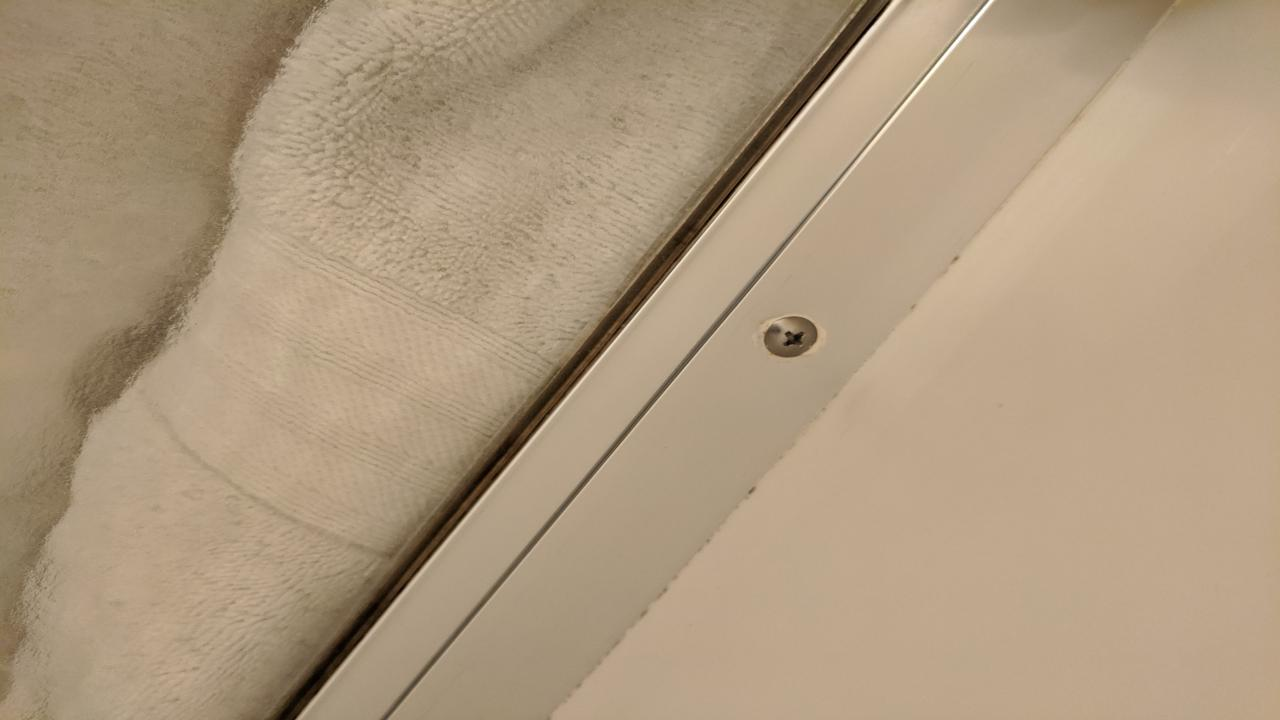CRS: (766, 317, 819, 359)
